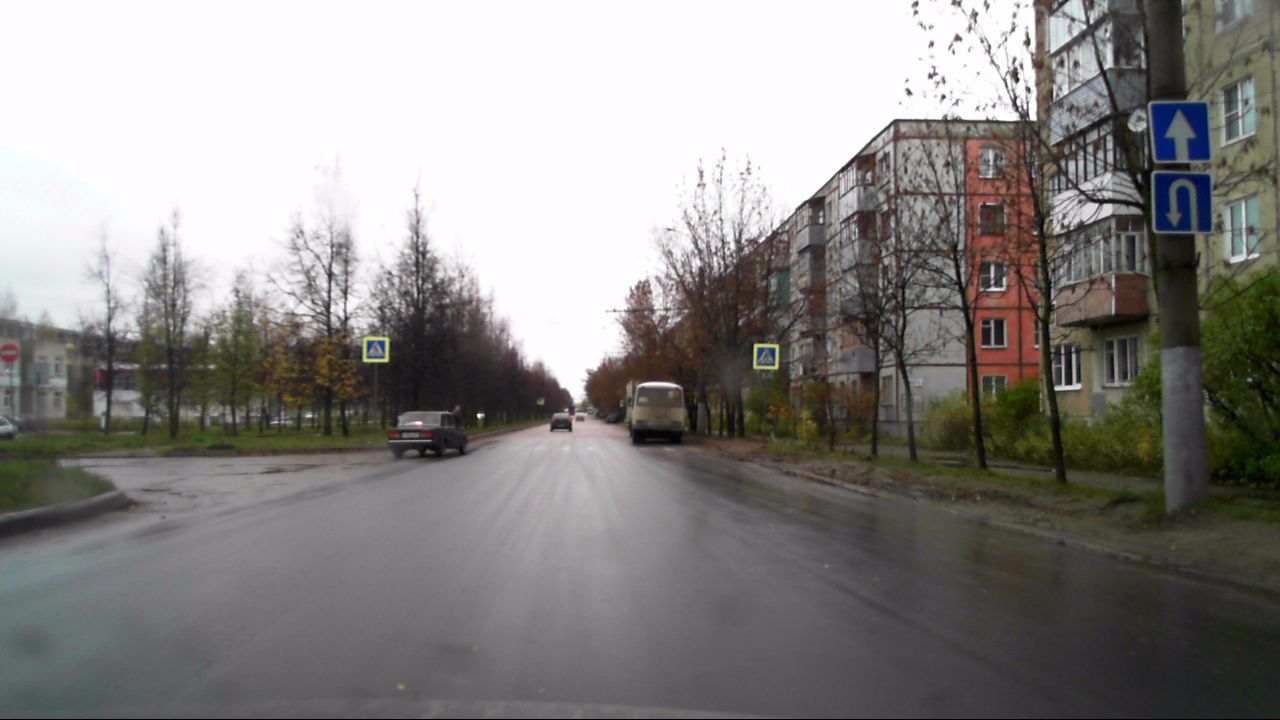U-turn: (1153, 173, 1212, 233)
